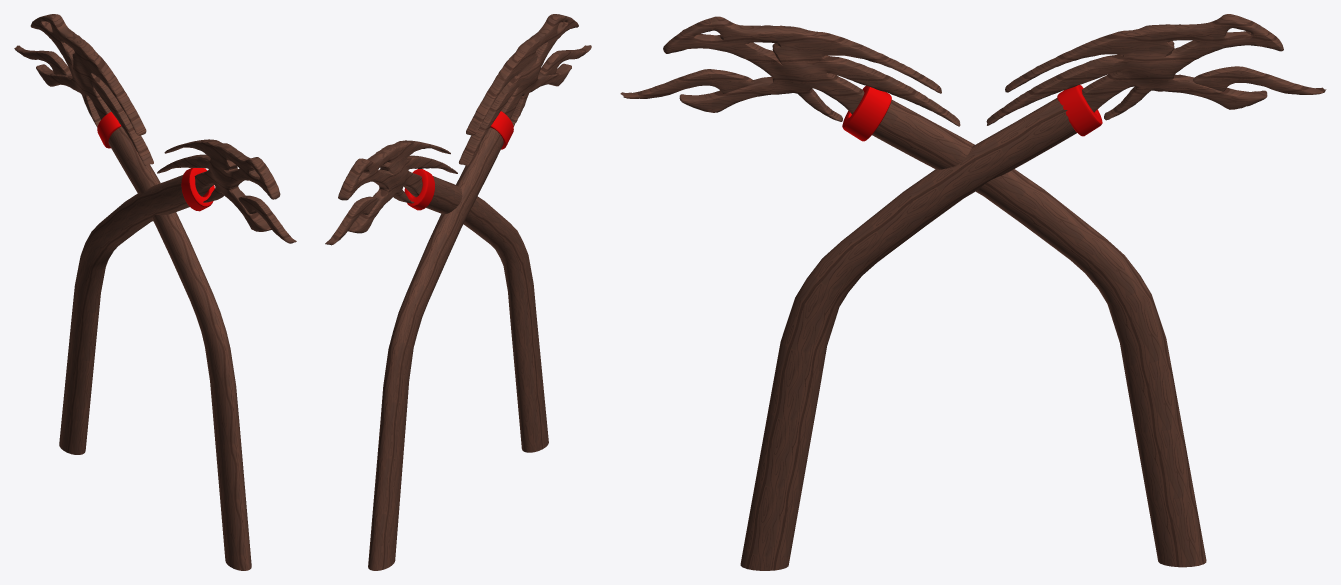
File: Marco con dragones.fbx
3 renders of one model, left to right at view 1: azimuth 30°, elevation 25°; view 2: azimuth 150°, elevation 25°; view 3: azimuth 270°, elevation 25°, orthographic. The views are drawn at different scales.
Visible parts, largest first — view 1: Marco_con_dragon; view 2: Marco_con_dragon; view 3: Marco_con_dragon.
Boxes of the visible parts, left/top/right/bottom form: Marco_con_dragon: left=14, top=14, right=296, bottom=570; Marco_con_dragon: left=325, top=14, right=591, bottom=570; Marco_con_dragon: left=620, top=14, right=1326, bottom=570.
Size of the model in its own units: 0.805 by 11.91 by 13.97.
